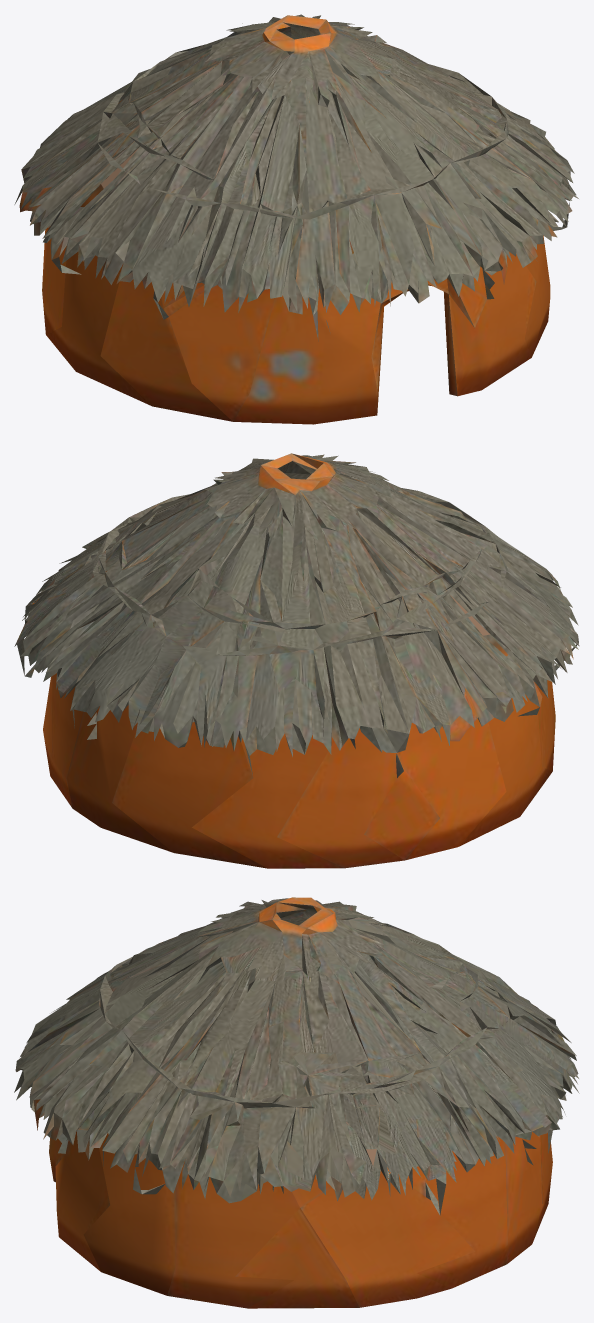
The model's file is Hut_Thatched_Round.glb.
The picture shows the model from 3 angles, top to bottom: view 1: azimuth 30°, elevation 25°; view 2: azimuth 150°, elevation 25°; view 3: azimuth 270°, elevation 25°; orthographic projection.
Size of the model in its own units: 1.85 by 1.07 by 1.86.
Materials: 1 (1 with a texture image).
